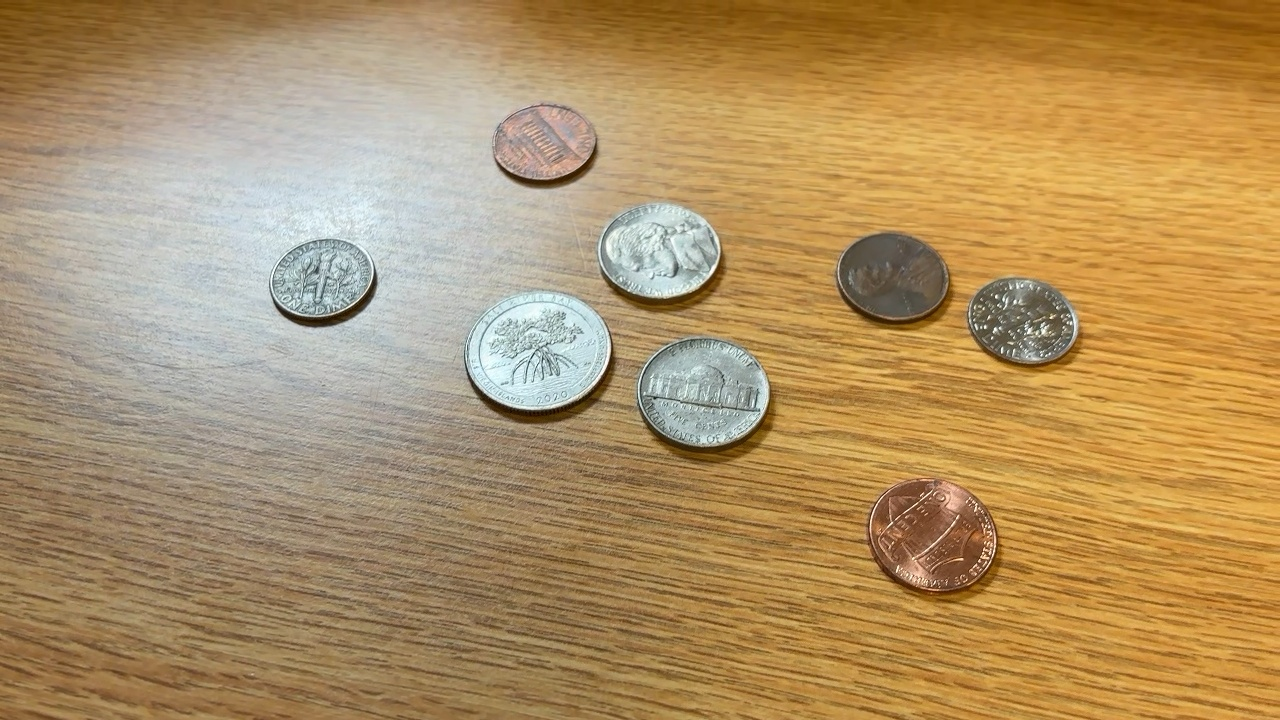dime: (967, 274, 1082, 367), (268, 234, 378, 320)
nickel: (636, 338, 772, 452), (599, 199, 726, 301)
penny: (865, 479, 1003, 594), (835, 230, 955, 325), (492, 100, 602, 185)
quarter: (461, 290, 614, 424)
